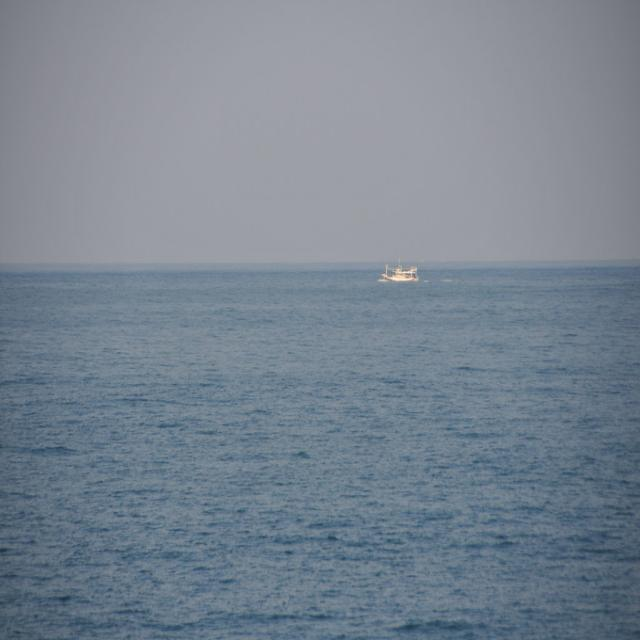houseboat: (380, 254, 420, 286)
